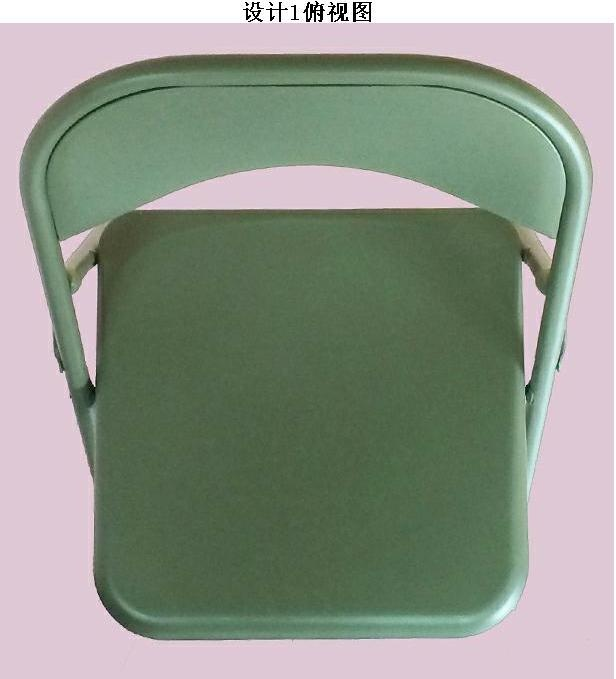obstacle: (21, 55, 591, 638)
